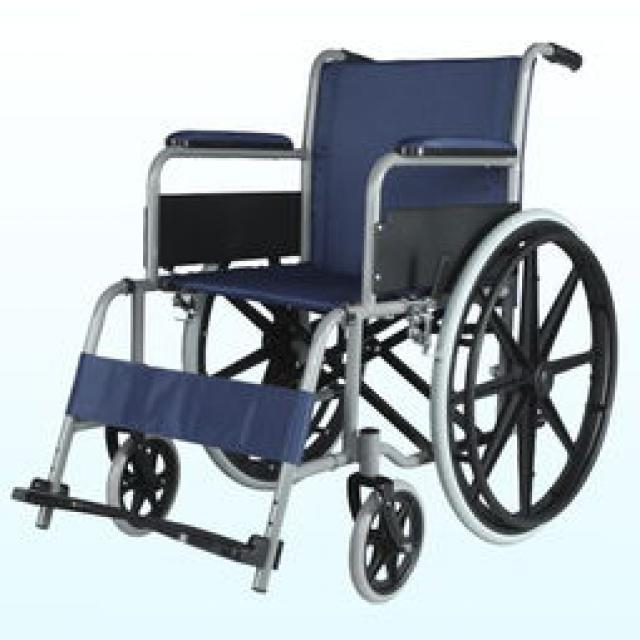wheelchair: (0, 35, 615, 600)
